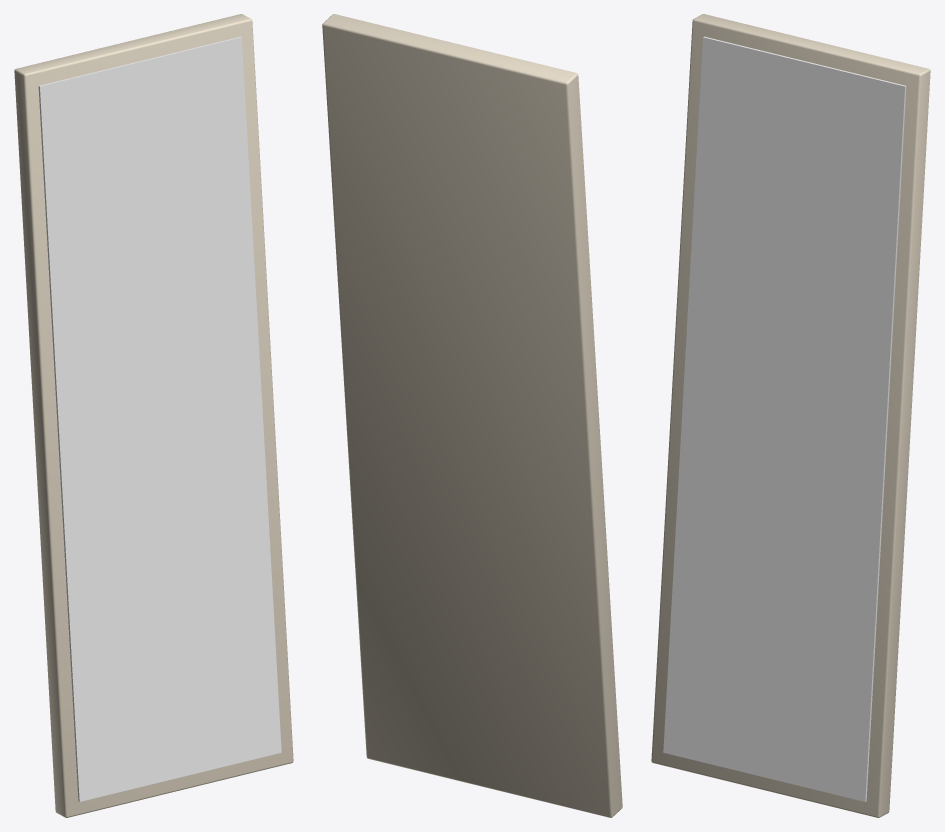
Rendered from sg_mirror_full.glb.
The picture shows the model from 3 angles, left to right: view 1: azimuth 30°, elevation 25°; view 2: azimuth 150°, elevation 25°; view 3: azimuth 330°, elevation 25°; orthographic projection. The views are drawn at different scales.
Parts seen in each view (by area): view 1: glass, frame; view 2: frame; view 3: glass, frame.
Boxes of the visible parts, x1,y1,x2,y2 form: glass: (38,36,281,801); frame: (14,14,293,817); frame: (322,14,622,817); glass: (663,36,906,801); frame: (651,14,930,817).
Size of the model in its own units: 0.6 by 1.79 by 0.2397.
